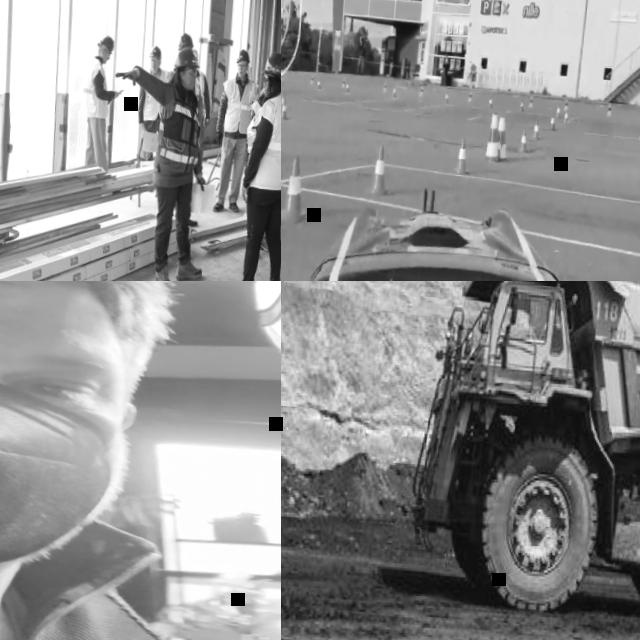Hardhat: (173, 47, 202, 72), (260, 49, 281, 76), (98, 35, 115, 55), (177, 32, 194, 52), (235, 48, 251, 64), (148, 44, 162, 58), (192, 46, 199, 56)
Mask: (0, 359, 119, 581)
NO-Mask: (183, 76, 196, 88), (150, 63, 159, 72), (238, 69, 247, 78), (264, 83, 269, 96), (103, 53, 108, 64)
NO-Safety Vest: (0, 541, 211, 640)
Person: (0, 281, 253, 640), (98, 41, 218, 281), (231, 46, 281, 281), (209, 45, 261, 214), (77, 33, 125, 173), (161, 29, 211, 125), (134, 42, 171, 161), (184, 45, 215, 163), (533, 309, 565, 353)
Safety Cone: (281, 151, 311, 222), (366, 141, 392, 196), (484, 111, 501, 163), (495, 113, 510, 164), (453, 135, 471, 176), (493, 129, 505, 162), (517, 125, 529, 153), (530, 116, 541, 140), (281, 99, 289, 121), (548, 110, 556, 131), (281, 90, 287, 111), (563, 108, 570, 123), (555, 103, 562, 118), (444, 91, 451, 105), (607, 101, 614, 115), (563, 95, 570, 108), (519, 98, 525, 112), (528, 95, 534, 108), (468, 88, 473, 101), (392, 85, 397, 97), (419, 85, 424, 97), (488, 97, 493, 108), (383, 82, 388, 93), (341, 77, 346, 87), (310, 74, 314, 86), (346, 81, 350, 92), (317, 78, 321, 88)
Safety Vest: (153, 80, 205, 173), (243, 87, 281, 190), (219, 73, 260, 134), (77, 56, 114, 118), (163, 69, 200, 113), (142, 66, 169, 119), (193, 68, 209, 125), (536, 318, 561, 342), (250, 98, 262, 113)
machinery: (402, 281, 640, 640)
vehicle: (281, 160, 640, 281)
